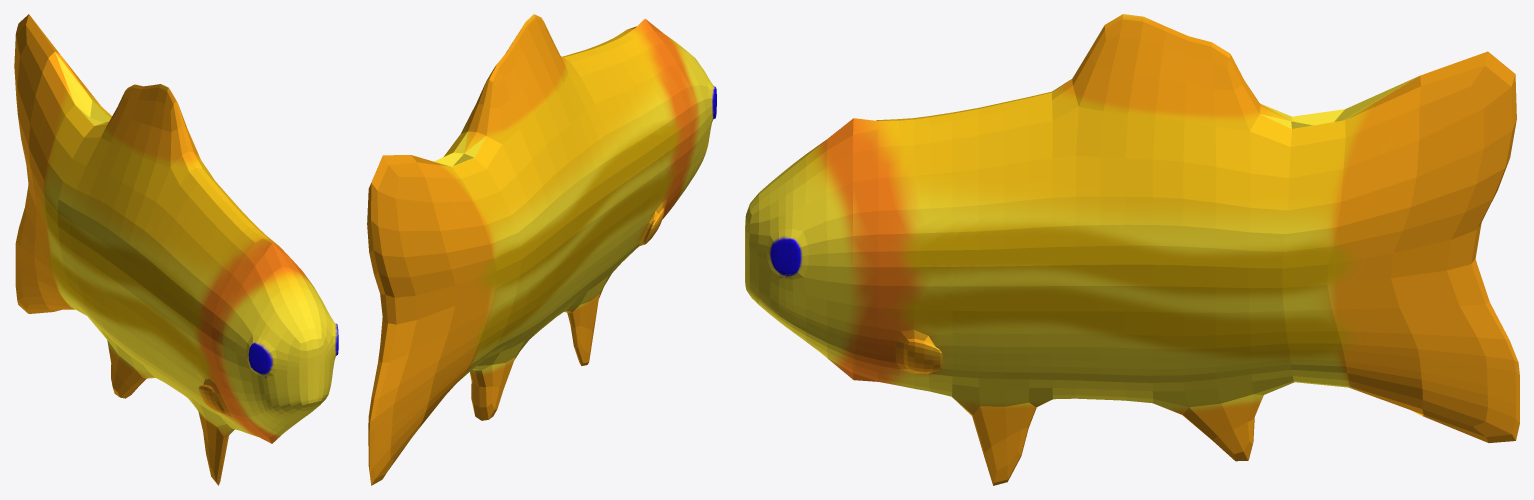
Rendered from rare fish.fbx.
3 views of the same model, side by side, from view 1: azimuth 30°, elevation 25°; view 2: azimuth 150°, elevation 25°; view 3: azimuth 270°, elevation 25° (orthographic). The views are drawn at different scales.
Visible parts, largest first — view 1: Rare_Fish; view 2: Rare_Fish; view 3: Rare_Fish.
Part boxes in pixels (<box>): Rare_Fish: <box>14,14,338,485</box>; Rare_Fish: <box>367,14,716,485</box>; Rare_Fish: <box>745,14,1519,485</box>.
Bounding box in the file's own units: 26.72 × 90.21 × 134.
Materials: 1 (1 with a texture image).
